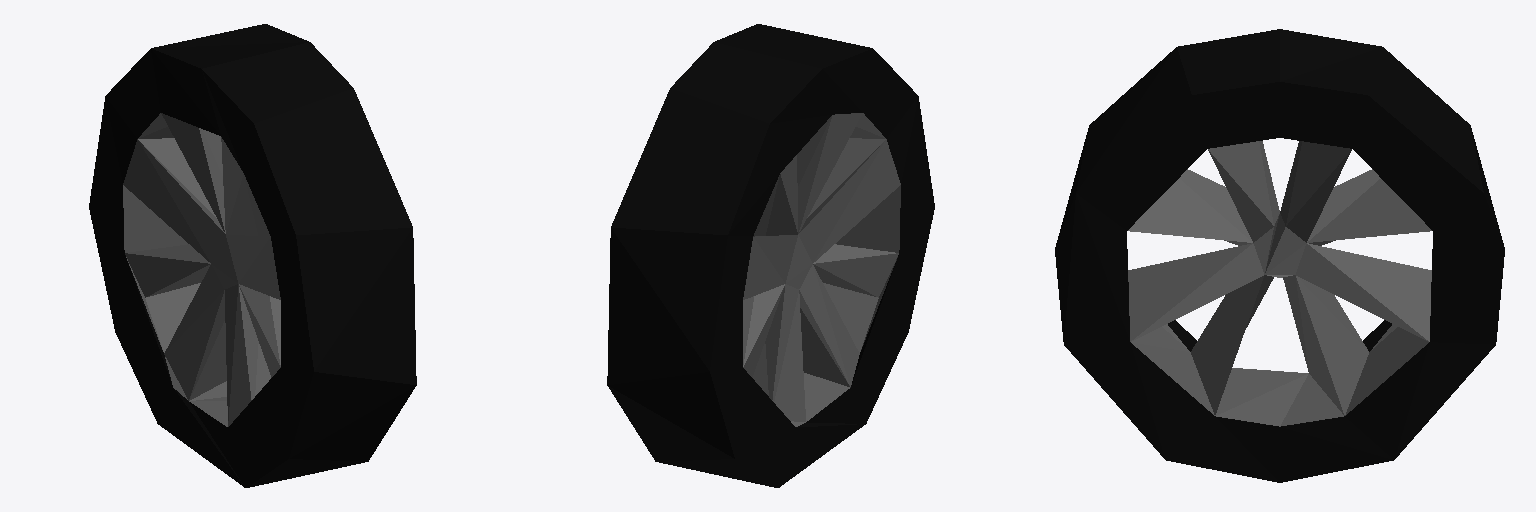
File: hot_rod_356_wheel.obj
3 views of the same model, side by side, from view 1: azimuth 30°, elevation 25°; view 2: azimuth 150°, elevation 25°; view 3: azimuth 270°, elevation 25° (orthographic).
Visible parts, largest first — view 1: Cylinder.005; view 2: Cylinder.005; view 3: Cylinder.005.
Boxes of the visible parts, x1,y1,x2,y2 form: Cylinder.005: [89, 24, 416, 487]; Cylinder.005: [607, 24, 934, 487]; Cylinder.005: [1055, 29, 1504, 482].
Bounding box in the file's own units: 0.3713 × 1.29 × 1.31.